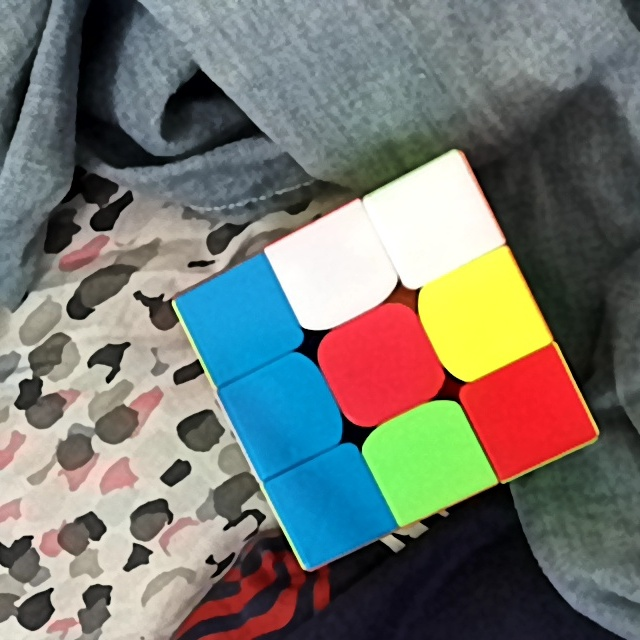tile: (490, 375, 570, 447), (245, 377, 321, 450), (386, 424, 464, 493), (346, 327, 418, 401), (201, 286, 277, 356), (391, 185, 464, 257), (444, 282, 518, 353), (294, 238, 366, 306), (295, 470, 362, 538)
